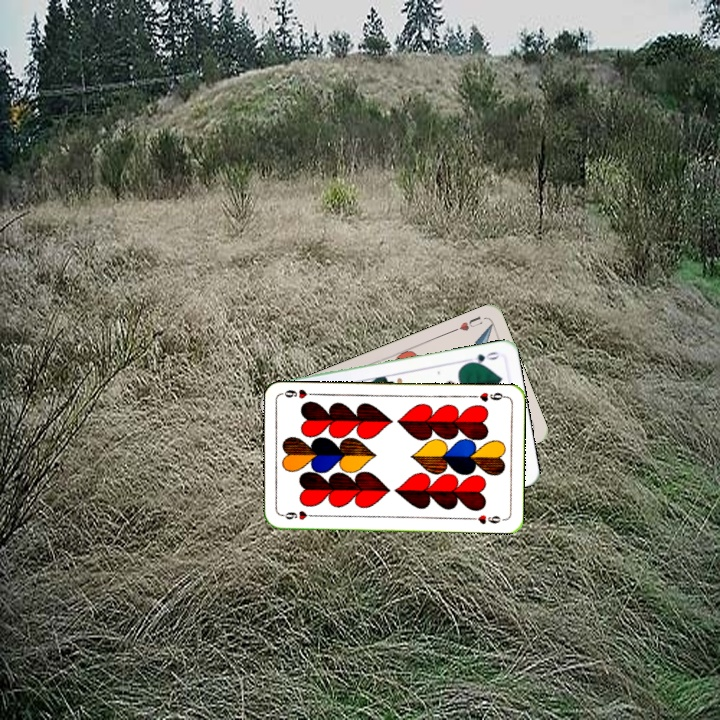GO: (462, 348, 502, 367)
H9: (468, 388, 509, 404), (278, 507, 318, 522)
HU: (448, 312, 485, 335)
